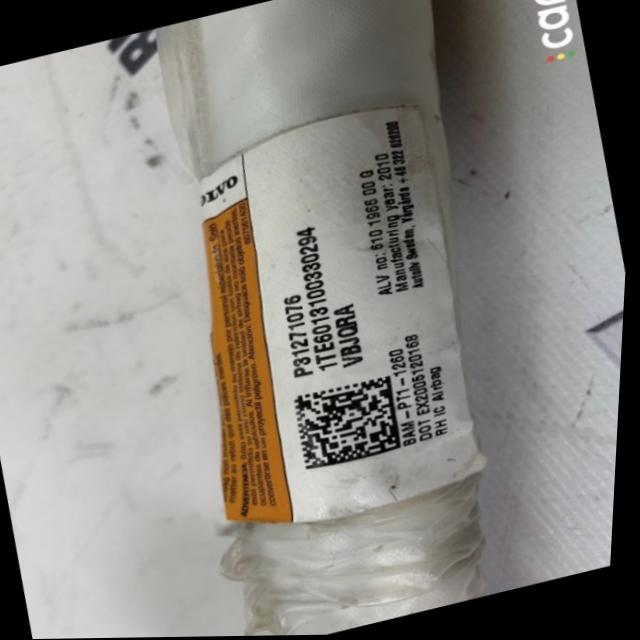datamatrix: (295, 375, 412, 473)
